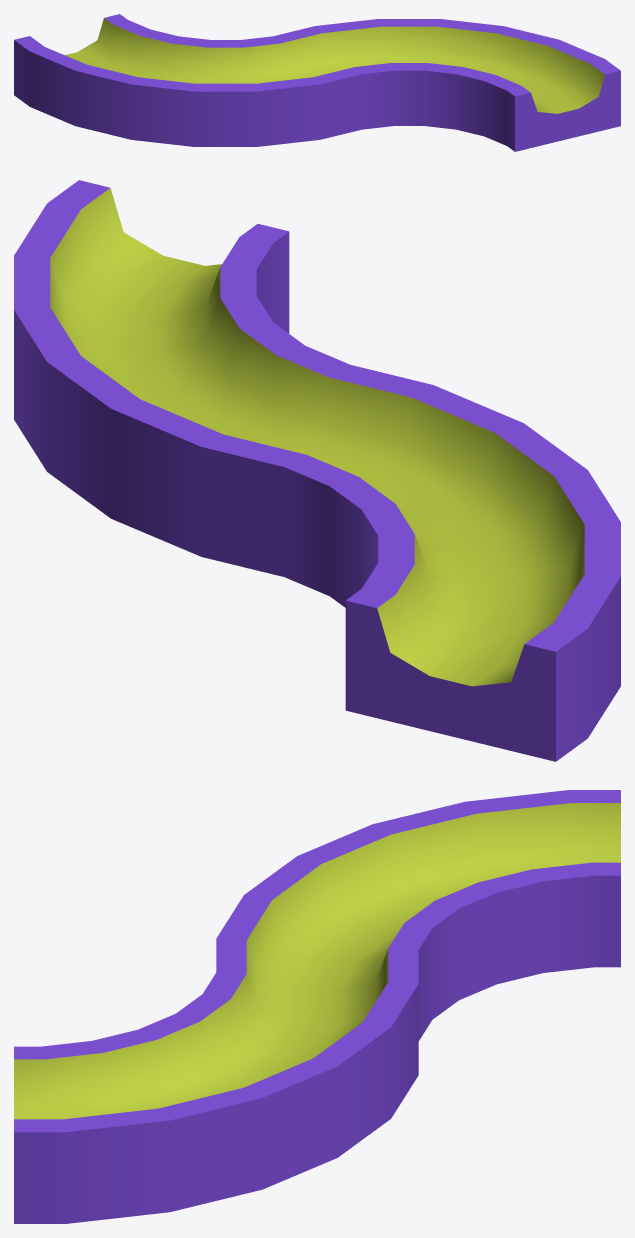
File: s-curve_left-col.dae
The picture shows the model from 3 angles, top to bottom: view 1: azimuth 30°, elevation 25°; view 2: azimuth 150°, elevation 25°; view 3: azimuth 270°, elevation 25°; orthographic projection. The views are drawn at different scales.
Parts seen in each view (by area): view 1: s-curve_left-col; view 2: s-curve_left-col; view 3: s-curve_left-col.
Boxes of the visible parts, x1,y1,x2,y2 form: s-curve_left-col: (14, 14, 620, 151); s-curve_left-col: (14, 180, 620, 761); s-curve_left-col: (14, 790, 620, 1223).
Bounding box in the file's own units: 4 × 3 × 0.5.
